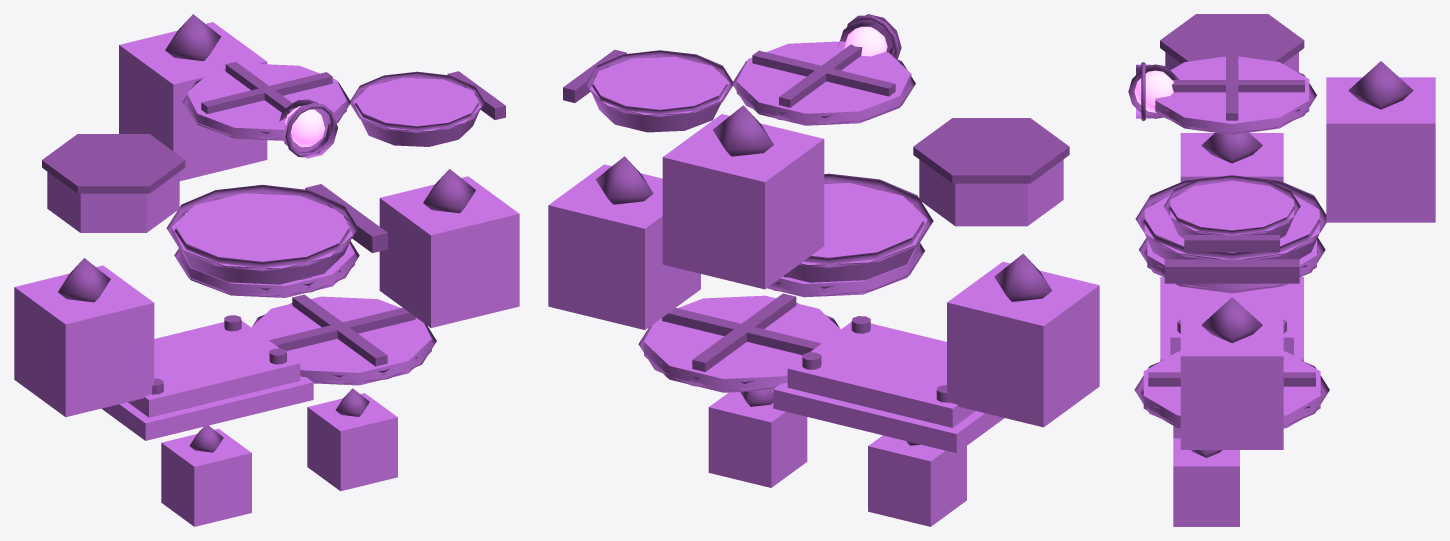
The model's file is golem_022.glb.
The picture shows the model from 3 angles, left to right: view 1: azimuth 30°, elevation 25°; view 2: azimuth 150°, elevation 25°; view 3: azimuth 270°, elevation 25°; orthographic projection. The views are drawn at different scales.
Parts seen in each view (by area): view 1: Body, Detail, Glow; view 2: Body, Detail, Glow; view 3: Body, Detail, Glow.
Part boxes in pixels (left/top/right/bottom): Body: left=14, top=22, right=519, bottom=526; Detail: left=42, top=14, right=505, bottom=452; Glow: left=285, top=106, right=325, bottom=147; Body: left=548, top=14, right=1099, bottom=526; Detail: left=563, top=15, right=1069, bottom=445; Glow: left=844, top=26, right=887, bottom=56; Body: left=1136, top=52, right=1435, bottom=526; Detail: left=1128, top=14, right=1413, bottom=457; Glow: left=1134, top=70, right=1173, bottom=112.
Bounding box in the file's own units: 1.26 × 1.09 × 0.7301.
